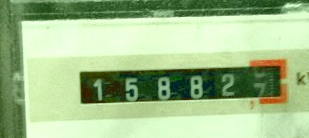1: (91, 73, 105, 103)
2: (218, 71, 236, 98)
5: (122, 74, 140, 105)
7: (251, 80, 265, 97)
8: (154, 74, 171, 102), (187, 72, 204, 100)
screen: (67, 50, 294, 116)
